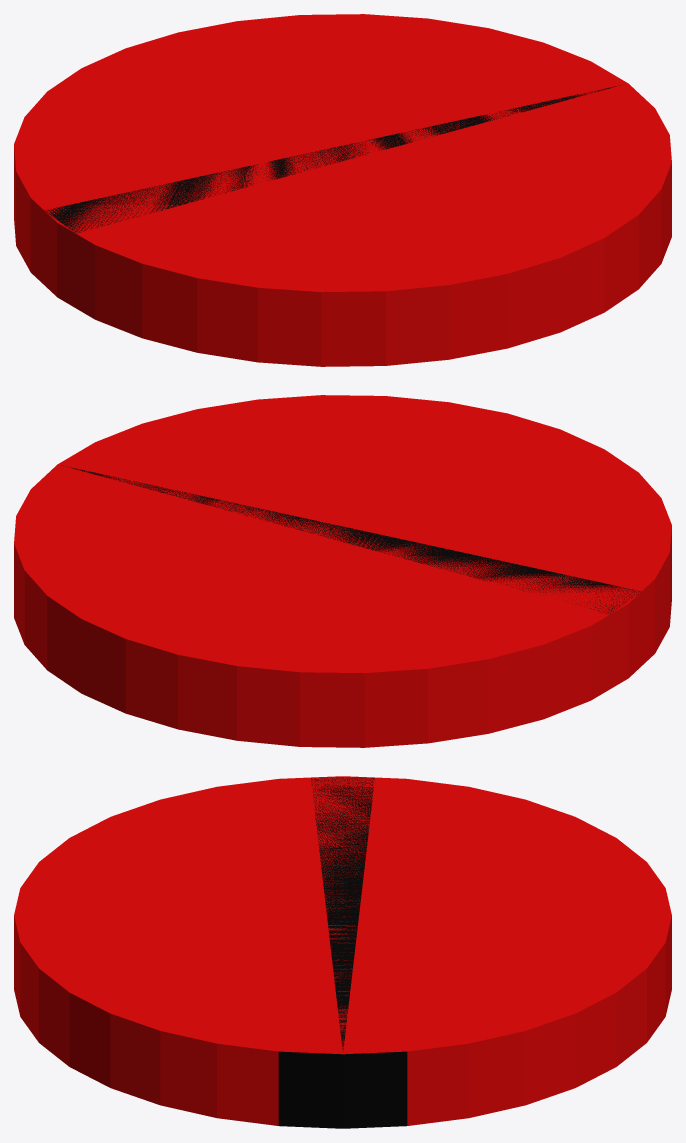
Rendered from goal.dae.
3 renders of one model, top to bottom at view 1: azimuth 30°, elevation 25°; view 2: azimuth 150°, elevation 25°; view 3: azimuth 270°, elevation 25°, orthographic.
Visible parts, largest first — view 1: Cylinder; view 2: Cylinder; view 3: Cylinder.
Part boxes in pixels (x1,y1,x2,y2): Cylinder: [14, 14, 671, 366]; Cylinder: [14, 395, 671, 747]; Cylinder: [14, 776, 671, 1128].
Size of the model in its own units: 0.1 by 0.1 by 0.0125.
